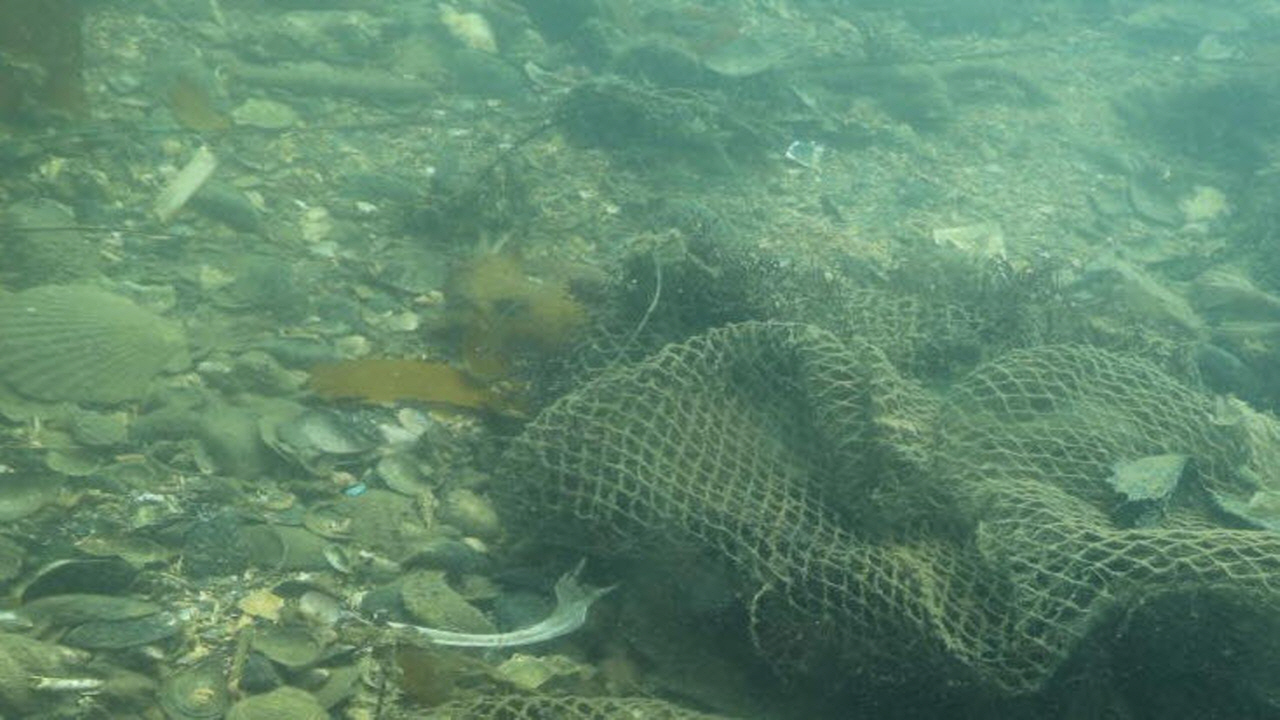fish net: (493, 205, 1280, 720)
